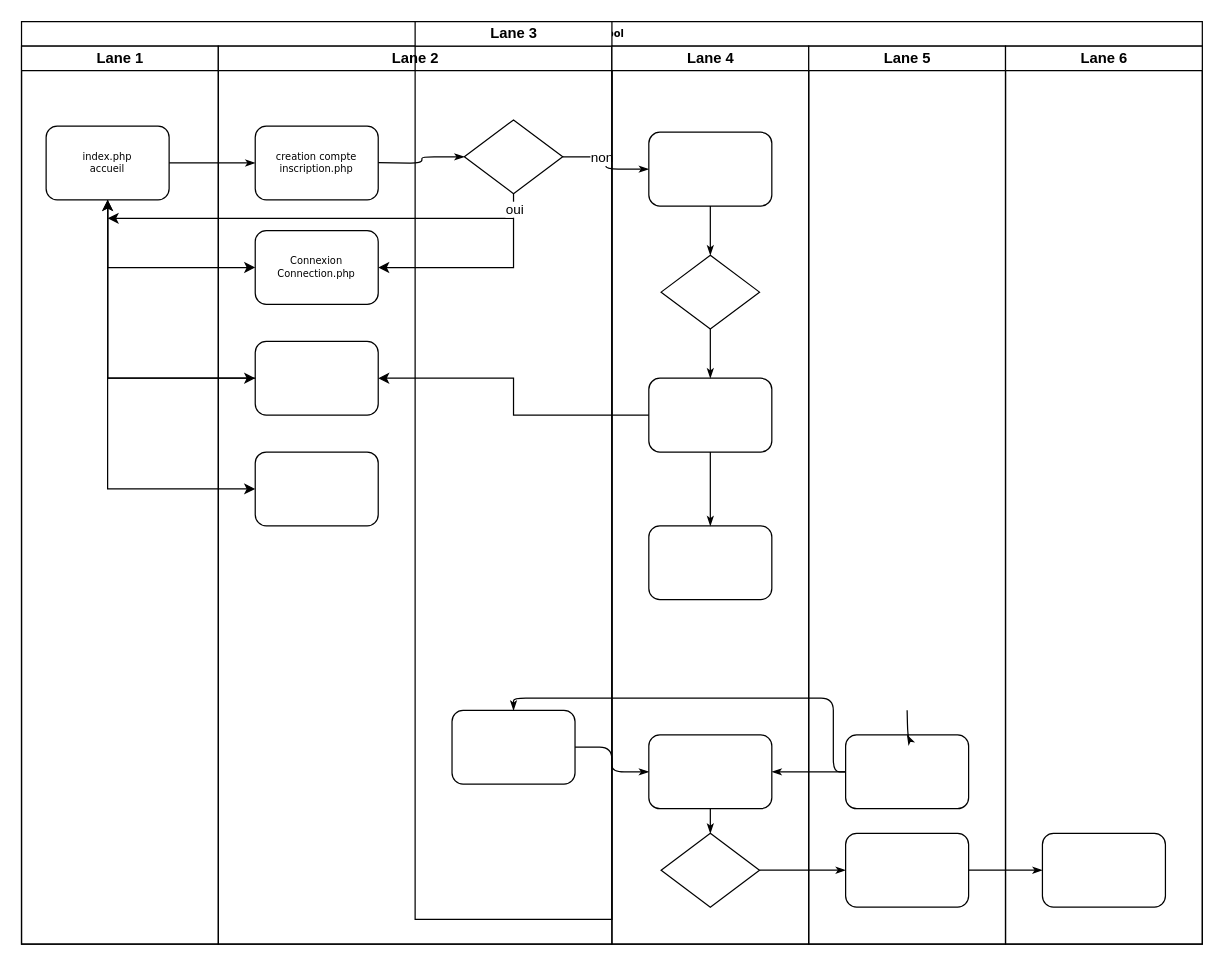
Image size: 1224x966. Some labels were removed from this diagram. Each missing label, with the centre of its shape:
contact contact.php: (x=316, y=488)
deja inscrit: (x=513, y=156)
don don.php: (x=316, y=377)
formulaire.php: (x=710, y=168)
genere_lettre.php: (x=710, y=414)
